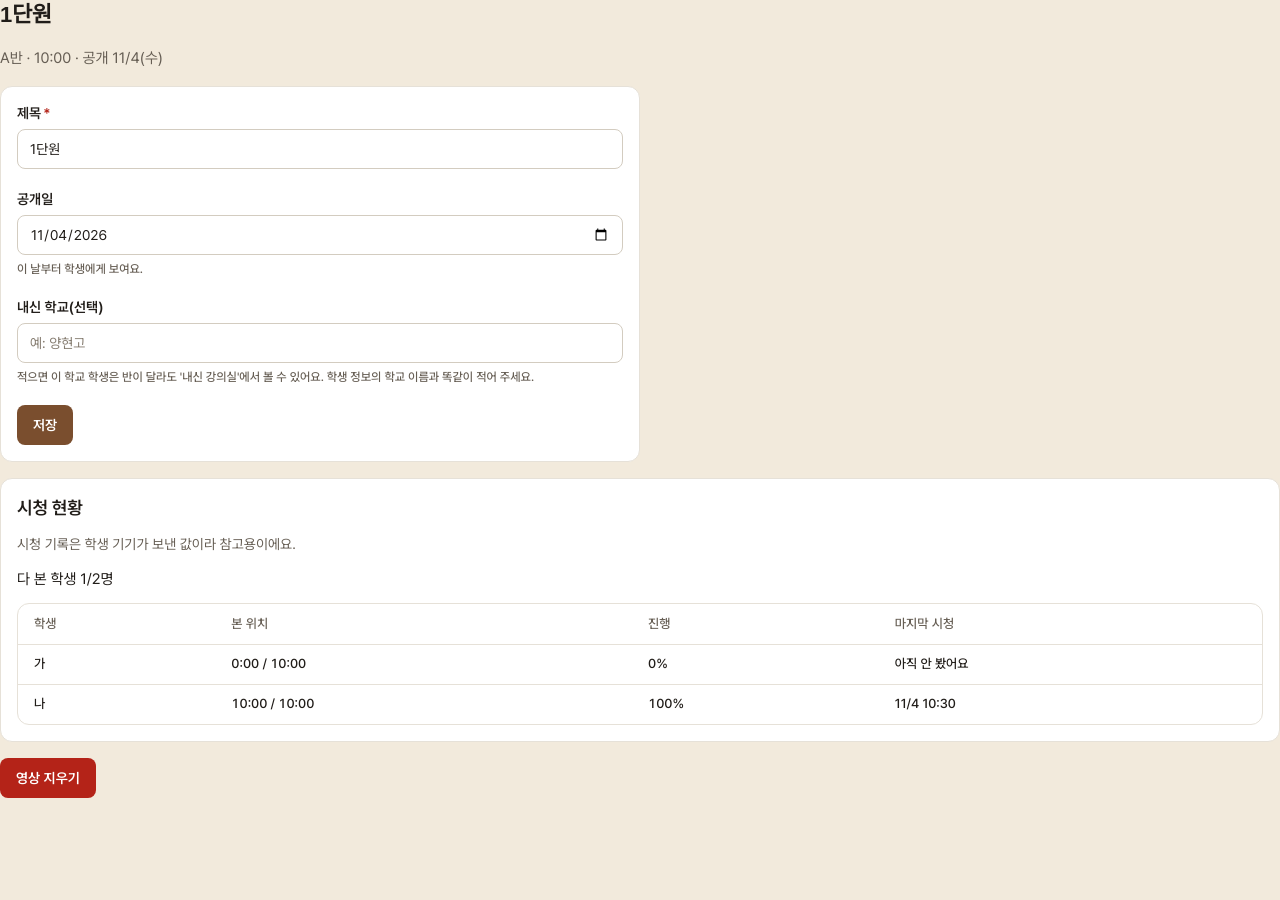
Scenario: AdminVideoDetailScreen › confirms, deletes once, then goes back to the class list
Click the button "영상 지우기". click: (48, 778)
box: [0,758,96,798]
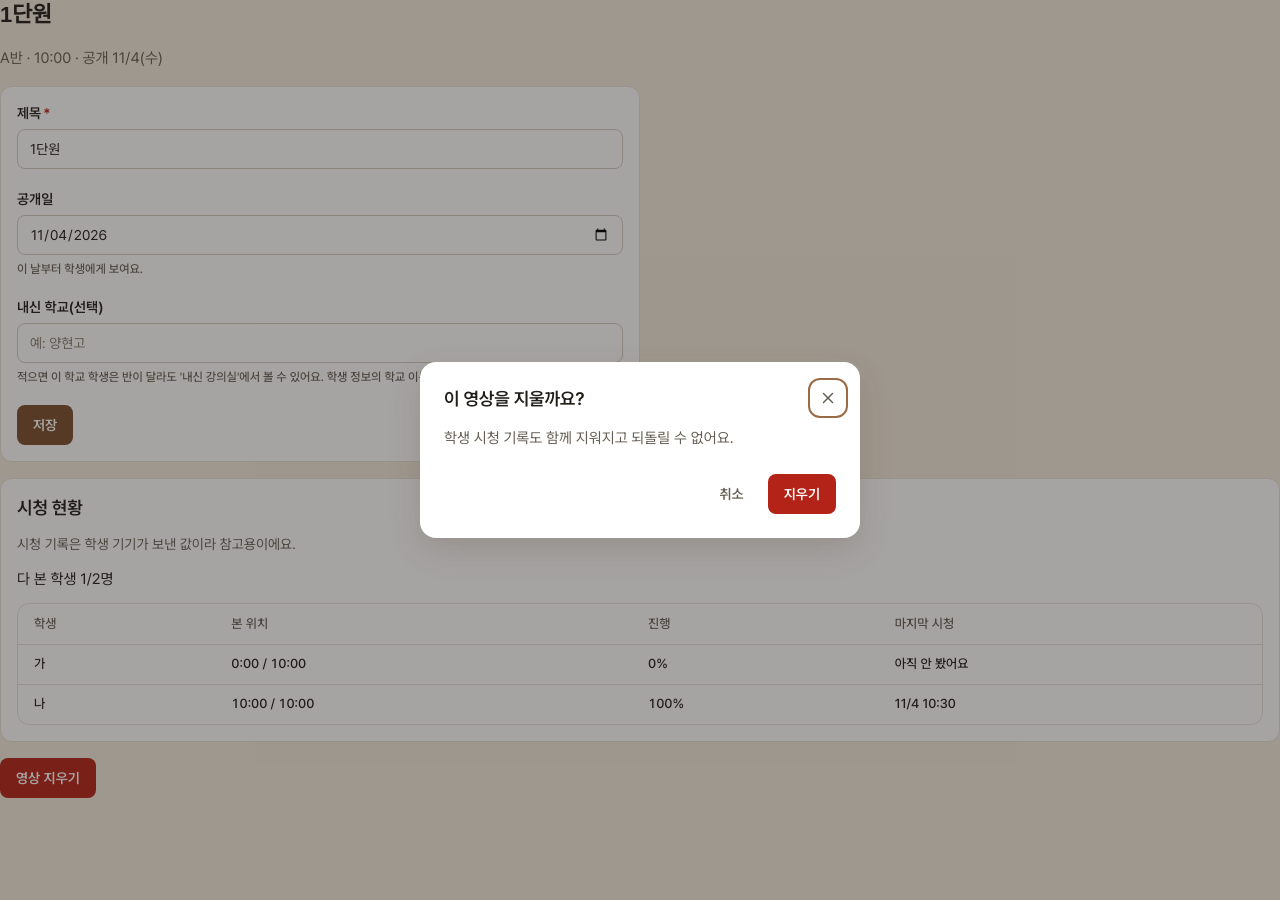
Expected: the dialog "이 영상을 지울까요?" is shown, [420,362,860,538]
Click the button "지우기". click: (802, 494)
box: [768,474,836,514]
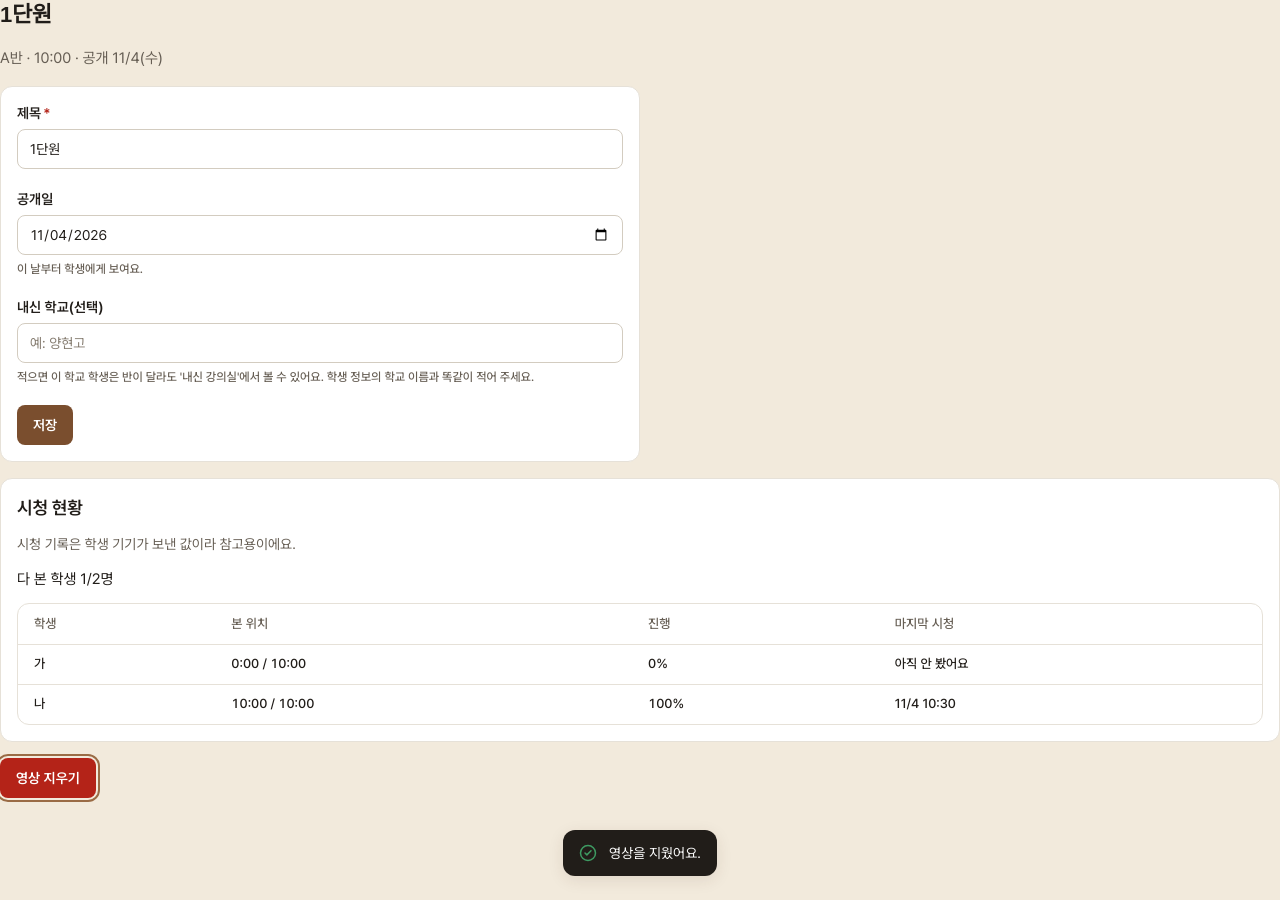
Expected: the text "영상을 지웠어요." is shown, [609,842,701,864]
